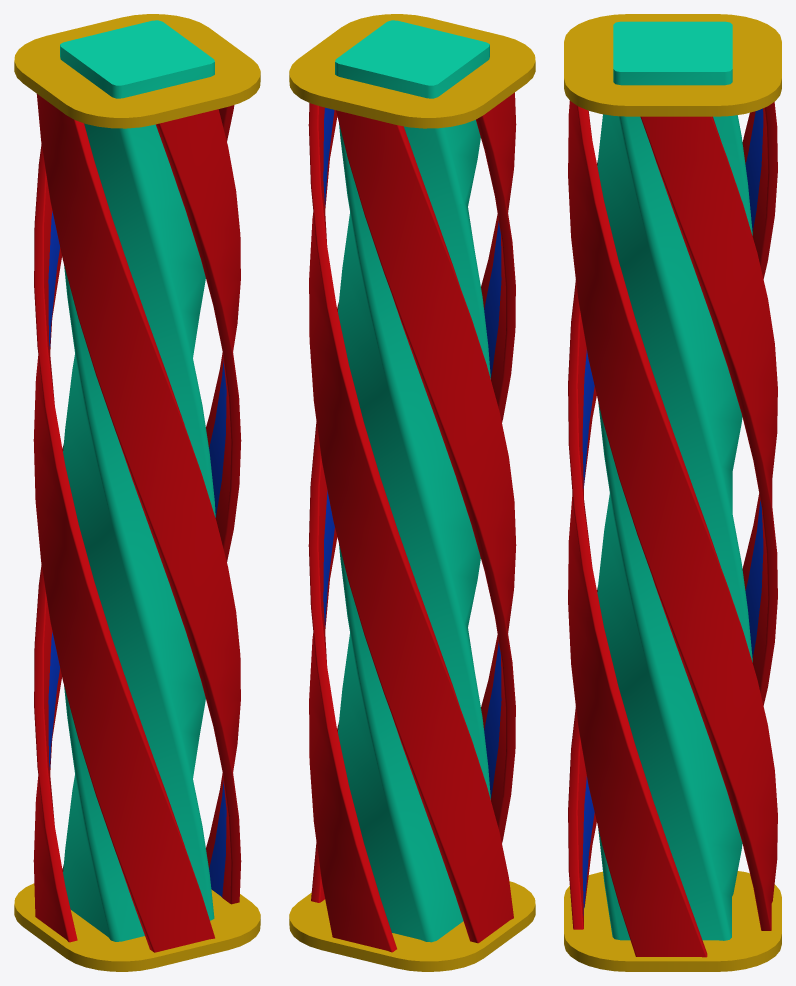
File: Pole_C_01.fbx
3 renders of one model, left to right at view 1: azimuth 30°, elevation 25°; view 2: azimuth 150°, elevation 25°; view 3: azimuth 270°, elevation 25°, orthographic.
Visible parts, largest first — view 1: Pole_C_01; view 2: Pole_C_01; view 3: Pole_C_01.
Part boxes in pixels (x1,y1,x2,y2): Pole_C_01: [14, 14, 260, 971]; Pole_C_01: [289, 14, 535, 971]; Pole_C_01: [564, 14, 781, 971].
Size of the model in its own units: 116 by 523 by 116.
